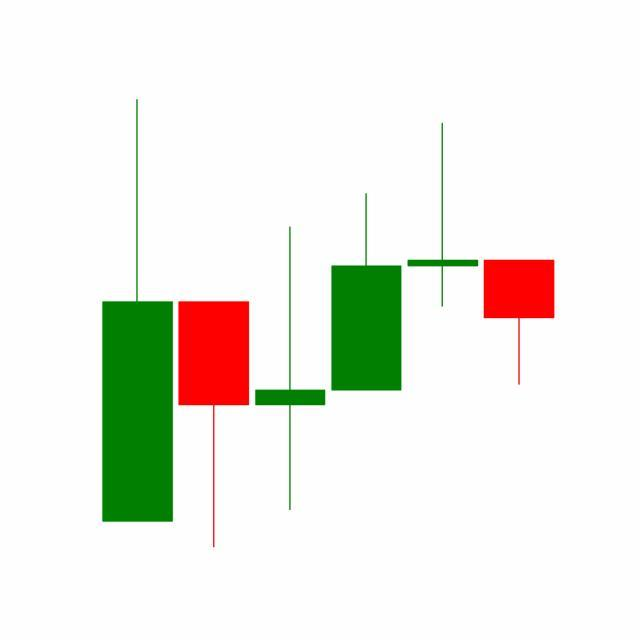Spinning Top: (404, 121, 482, 310)
